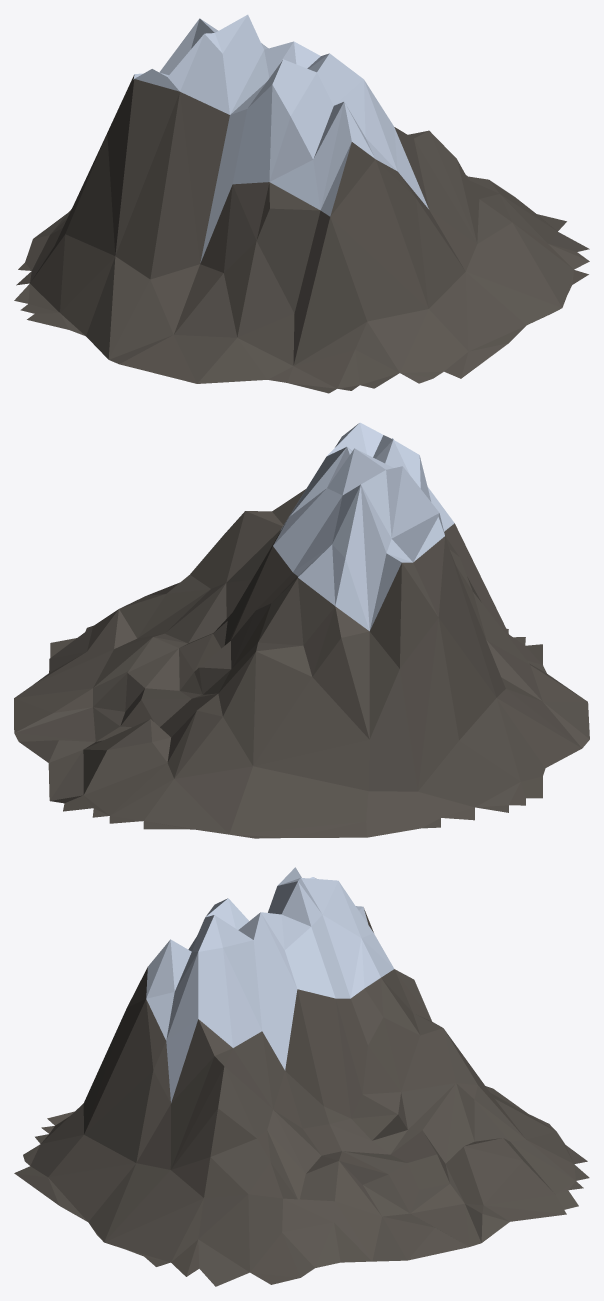
3 renders of one model, top to bottom at view 1: azimuth 30°, elevation 25°; view 2: azimuth 150°, elevation 25°; view 3: azimuth 270°, elevation 25°, orthographic. The views are drawn at different scales.
Visible parts, largest first — view 1: Landscape.003; view 2: Landscape.003; view 3: Landscape.003.
Part boxes in pixels (x1,y1,x2,y2): Landscape.003: [14, 14, 589, 393]; Landscape.003: [14, 422, 589, 838]; Landscape.003: [14, 867, 589, 1286].
Bounding box in the file's own units: 1.79 × 0.9324 × 1.83.
